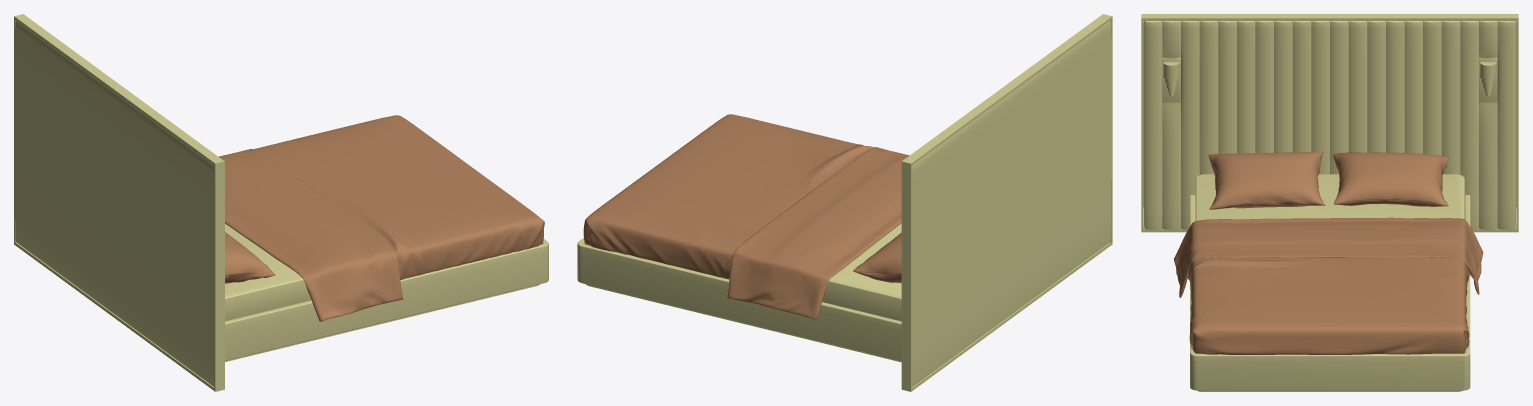
The model's file is Project Name.gltf.
The picture shows the model from 3 angles, left to right: view 1: azimuth 30°, elevation 25°; view 2: azimuth 150°, elevation 25°; view 3: azimuth 270°, elevation 25°; orthographic projection. The views are drawn at different scales.
Parts seen in each view (by area): view 1: Buffer Object (×2); view 2: Buffer Object (×2); view 3: Buffer Object (×2).
Part boxes in pixels (<box>): Buffer Object (×2): <box>14,14,548,391</box>; Buffer Object (×2): <box>577,14,1112,391</box>; Buffer Object (×2): <box>1141,14,1518,391</box>.
Bounding box in the file's own units: 0.00817 × 0.00494 × 0.00787.
